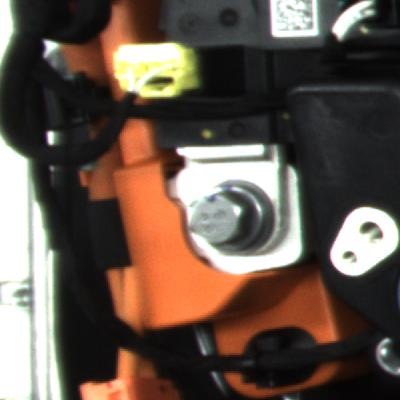nut_b: (180, 167, 287, 267)
